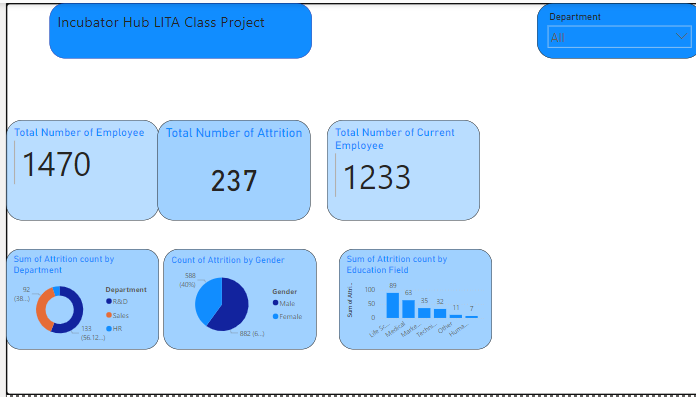

The page's visual inventory and layout, read from the dashboard file:
{"tool":"powerbi","page":{"name":"Page 4","canvas":[1280,720],"ordinal":3},"visuals":[{"type":"multiRowCard","title":"Total Number of Employee","fields":{"Values":["Sum(HR data.Employee Count)"]},"box":[0,215.2,281.4,184.8],"z":0},{"type":"multiRowCard","title":"Total Number of Current Employee","fields":{"Values":["Sum(HR data.CF_current Employee)"]},"box":[590.3,215.2,281.4,184.8],"z":2000},{"type":"card","title":"Total Number of Attrition","fields":{"Values":["Sum(HR data.Attrition count)"]},"box":[278.6,215.2,281.4,184.8],"z":3000},{"type":"donutChart","fields":{"Category":["HR data.Department"],"Y":["Sum(HR data.Attrition count)"]},"box":[0,452.4,281.4,184.8],"z":3001},{"type":"pieChart","fields":{"Category":["HR data.Gender"],"Y":["CountNonNull(HR data.Attrition)"]},"box":[289.7,452.4,281.4,184.8],"z":3002},{"type":"clusteredColumnChart","fields":{"Category":["HR data.Education Field"],"Y":["Sum(HR data.Attrition count)"]},"box":[612.4,452.4,281.4,184.8],"z":3003},{"type":"textbox","box":[80,0,482.8,102.1],"z":3005},{"type":"slicer","fields":{"Values":["HR data.Department"]},"box":[976.6,0,303.4,102.1],"z":3006}]}

Visuals, with their boxes in screenshot pixels (x1, y1, x2, y2), scaled from the page's 1280x720 canvas onto the 696x397 screenshot:
"Total Number of Employee" multiRowCard: x1=0 y1=119 x2=153 y2=221
"Total Number of Current Employee" multiRowCard: x1=321 y1=119 x2=474 y2=221
"Total Number of Attrition" card: x1=151 y1=119 x2=304 y2=221
donutChart - HR data.Department x Sum(HR data.Attrition count): x1=0 y1=249 x2=153 y2=351
pieChart - HR data.Gender x CountNonNull(HR data.Attrition): x1=158 y1=249 x2=311 y2=351
clusteredColumnChart - HR data.Education Field x Sum(HR data.Attrition count): x1=333 y1=249 x2=486 y2=351
textbox: x1=44 y1=0 x2=306 y2=56
slicer - HR data.Department: x1=531 y1=0 x2=695 y2=56
